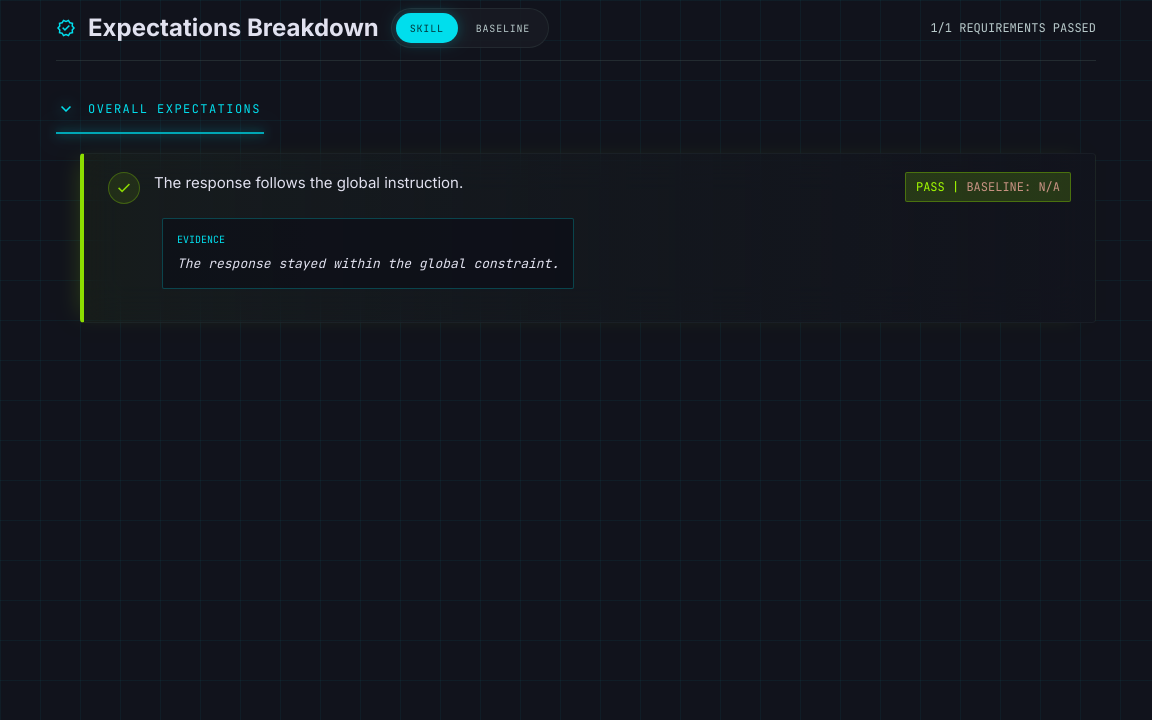
allows the overall expectations section to be collapsed
Step 1. Click the button with aria-label "Overall Expectations 1/1 expectations passed" → (174,109), box 56,85 -> 1096,133
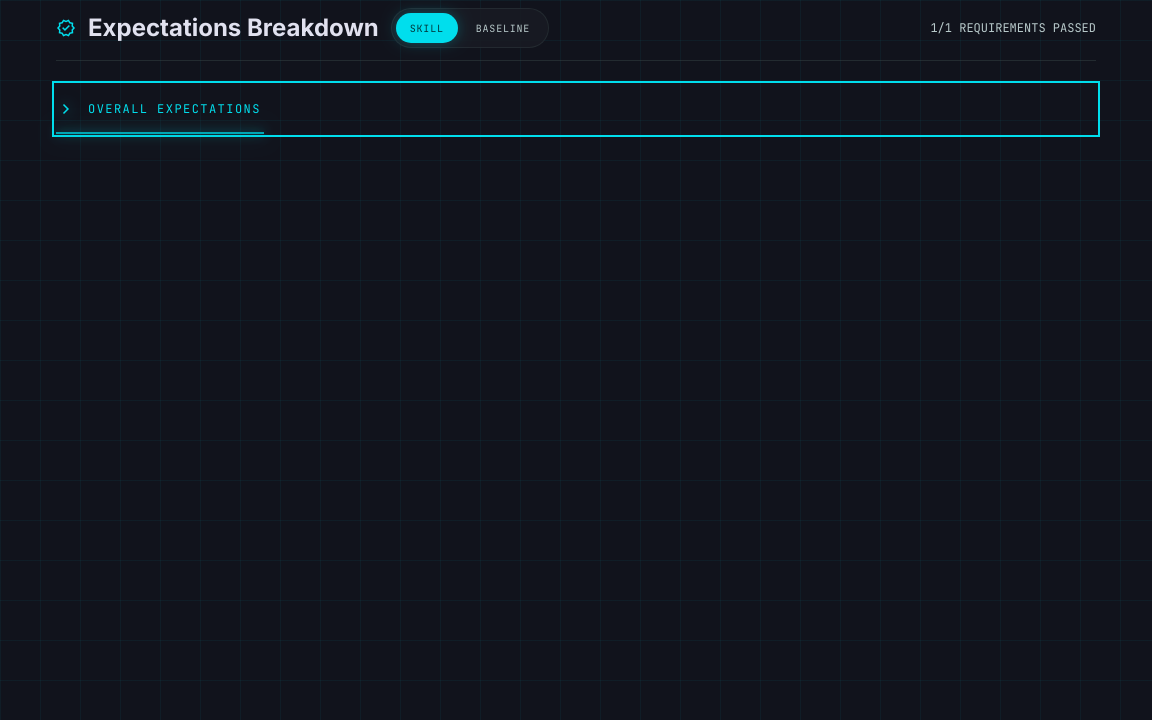
Expected: the button with aria-label "Overall Expectations 1/1 expectations passed" is collapsed, 56,85 -> 1096,133
